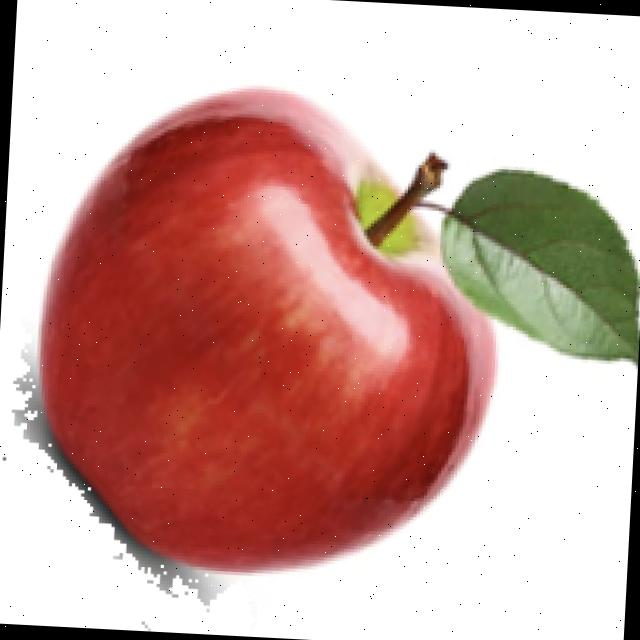apple: (11, 82, 640, 612)
